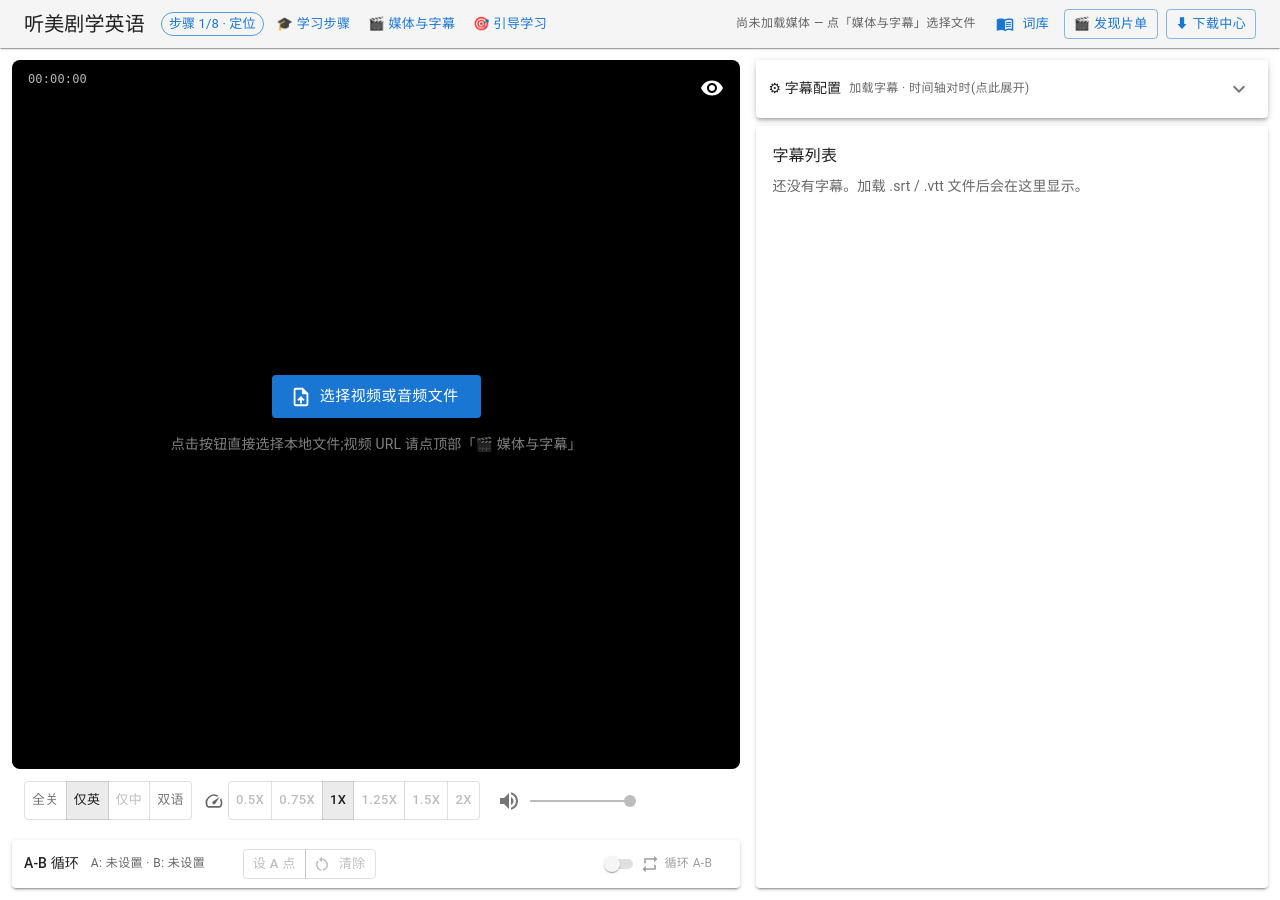
it: App — download view toggle › keeps the study stage mounted while the download centre is open
Click the button with test id "nav-download" at (1211, 24), box [1166,9,1256,39]
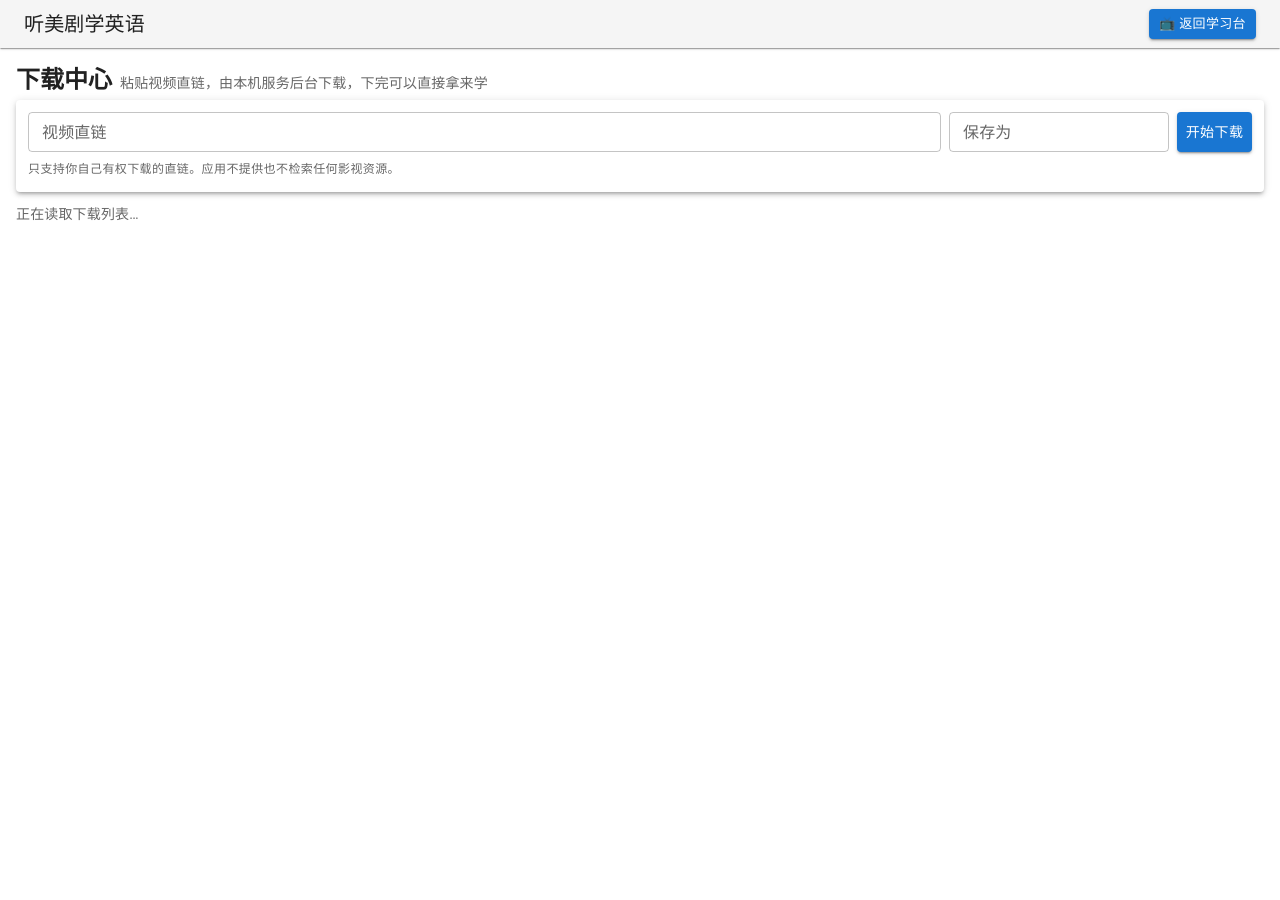
Expected: the element with test id "download-panel" is shown, [16,66,1264,222]
Click the button with test id "nav-study" at (1202, 24), box [1149,9,1256,39]
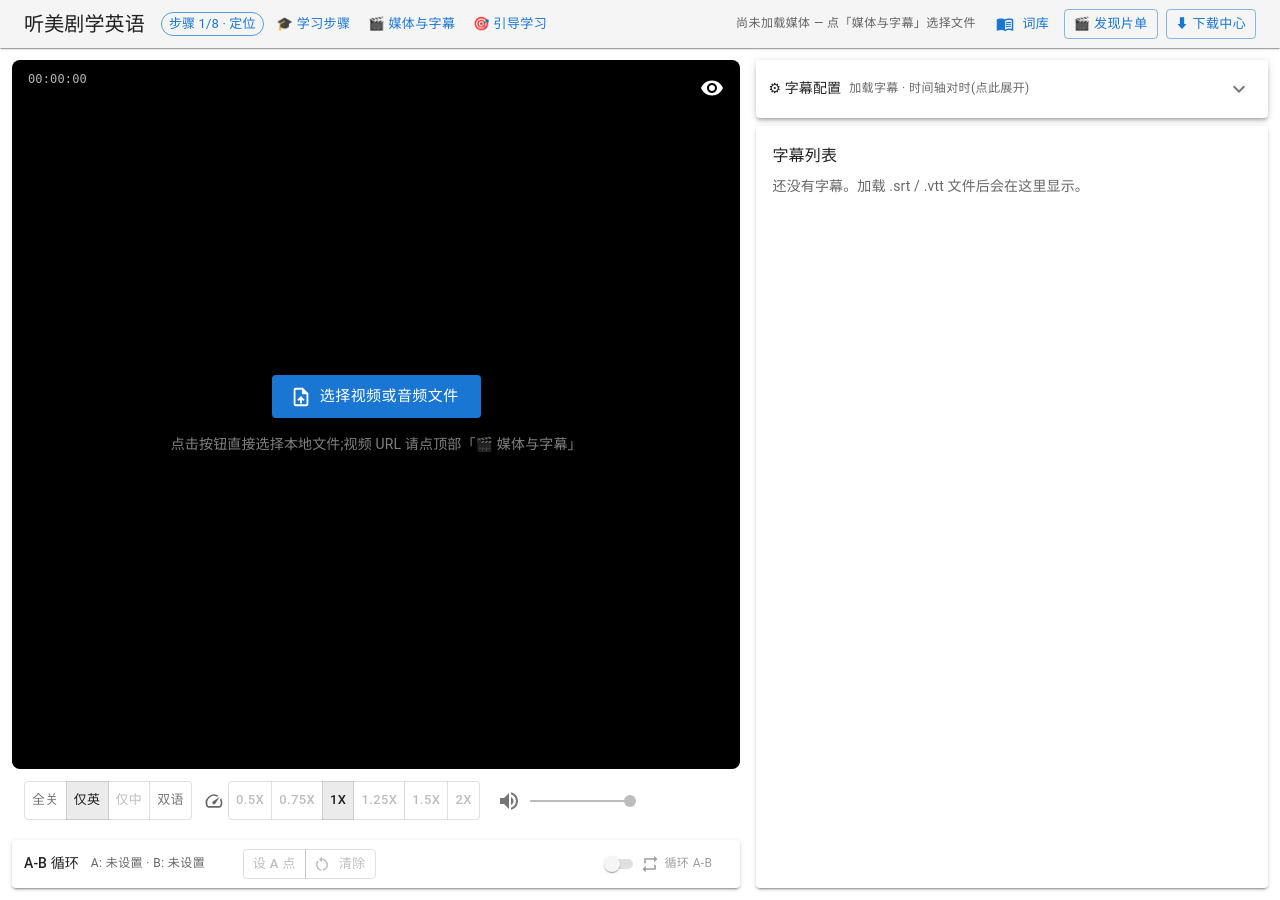
Expected: the element with test id "download-panel" is gone
Expected: the element with test id "study-stage" is shown
